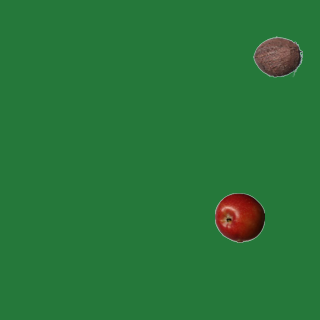Apple Braeburn: (214, 192, 264, 242)
Cocos: (252, 31, 302, 81)
